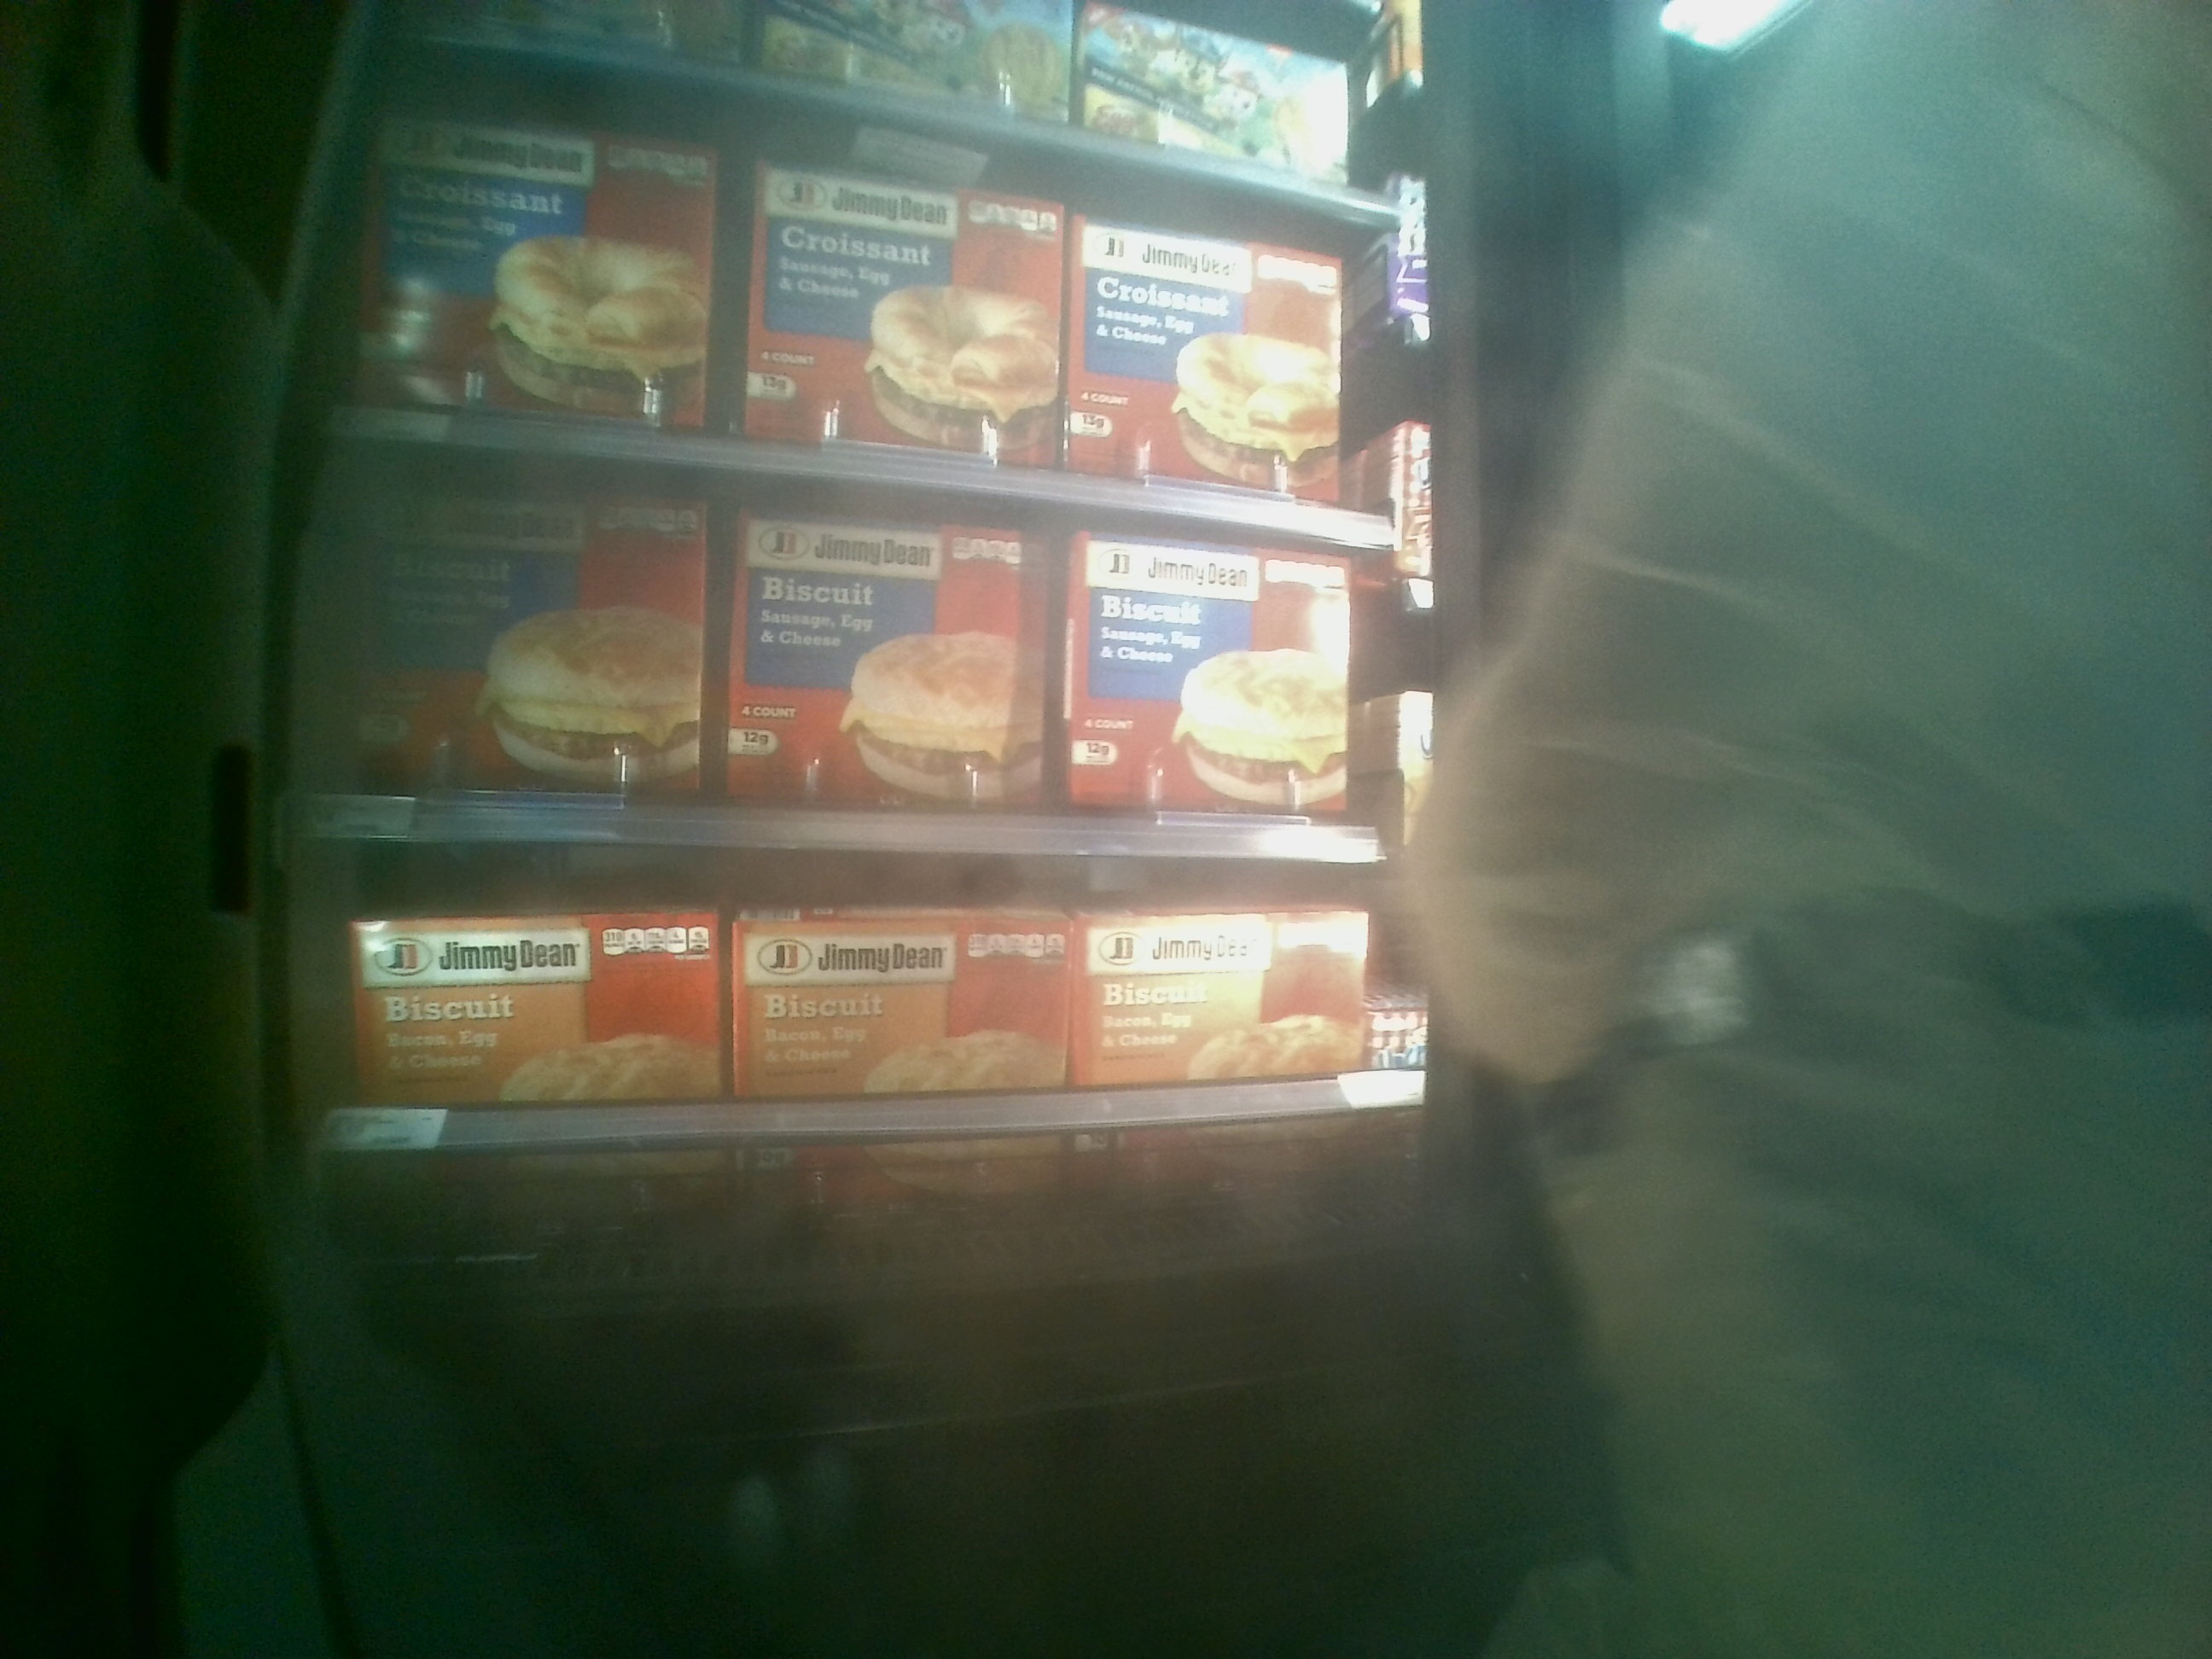shelf: (307, 441, 1400, 859), (308, 847, 1428, 1223)
